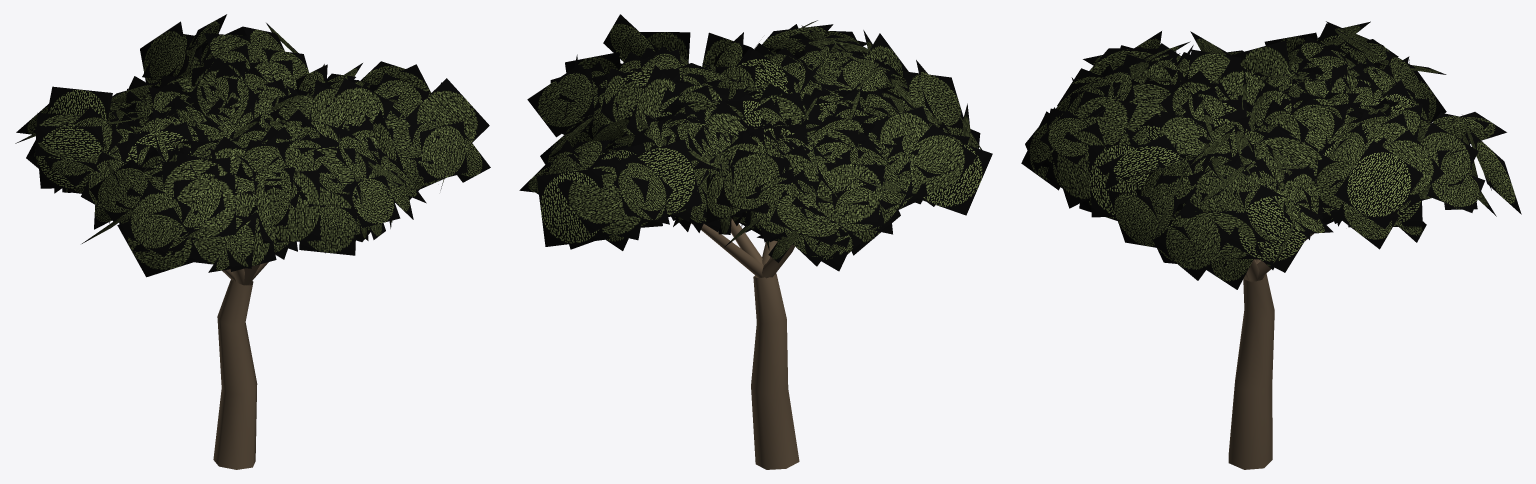
The model's file is andes_molle_lod0.glb.
The picture shows the model from 3 angles, left to right: view 1: azimuth 30°, elevation 25°; view 2: azimuth 150°, elevation 25°; view 3: azimuth 270°, elevation 25°; orthographic projection. The views are drawn at different scales.
Parts seen in each view (by area): view 1: GEO-Andes_molle_LOD0; view 2: GEO-Andes_molle_LOD0; view 3: GEO-Andes_molle_LOD0.
Boxes of the visible parts, box(x1,y1,x2,y2) form: GEO-Andes_molle_LOD0: box(15, 14, 490, 469); GEO-Andes_molle_LOD0: box(519, 14, 992, 469); GEO-Andes_molle_LOD0: box(1021, 21, 1521, 469).
Size of the model in its own units: 6.06 by 5.57 by 6.47.
Materials: 2 (1 with a texture image).
